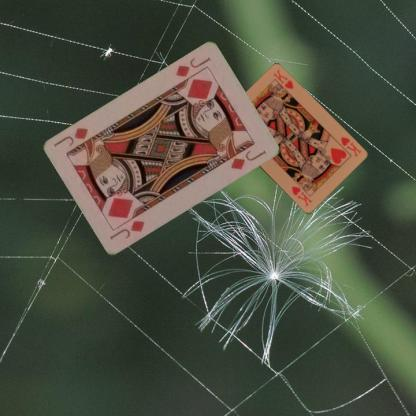Jd: (173, 55, 213, 79), (106, 218, 146, 241)
Kh: (338, 134, 362, 158)
